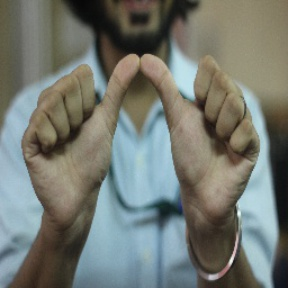A: (38, 47, 241, 192)
